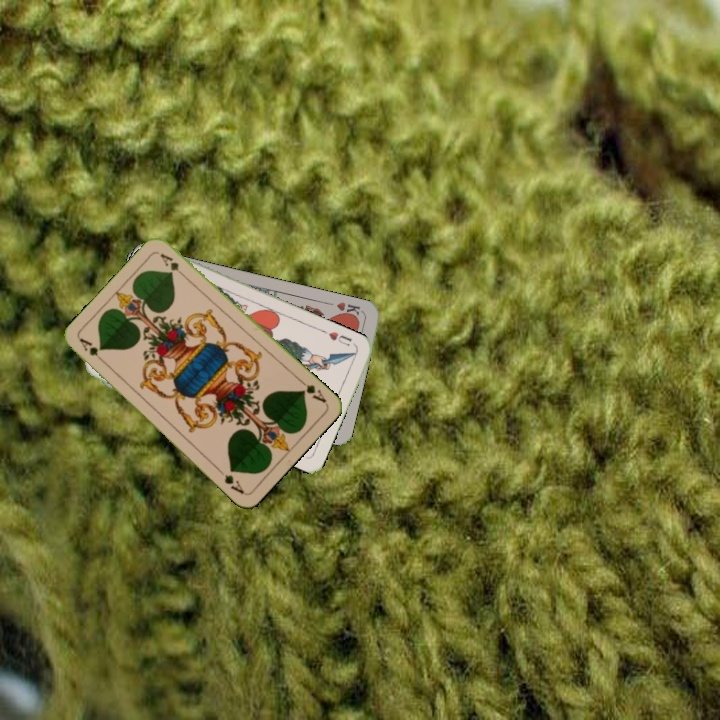GA: (76, 334, 109, 367), (295, 375, 329, 405)
HK: (333, 298, 363, 321)
HU: (325, 328, 354, 349)
